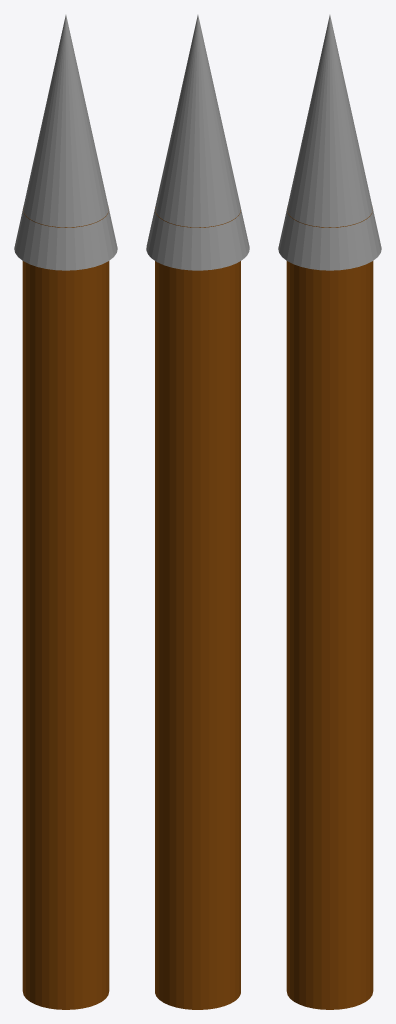
File: spear.glb
The picture shows the model from 3 angles, left to right: view 1: azimuth 90°, elevation 25°; view 2: azimuth 150°, elevation 25°; view 3: azimuth 270°, elevation 25°; orthographic projection.
Visible parts, largest first — view 1: Shaft, Point; view 2: Shaft, Point; view 3: Shaft, Point.
Boxes of the visible parts, left/top/right/bottom form: Shaft: left=22, top=210, right=109, bottom=1009; Point: left=14, top=15, right=117, bottom=270; Shaft: left=155, top=207, right=240, bottom=1009; Point: left=146, top=15, right=249, bottom=270; Shaft: left=286, top=210, right=373, bottom=1009; Point: left=278, top=15, right=381, bottom=270.
Bounding box in the file's own units: 0.12 × 1.25 × 0.12.
